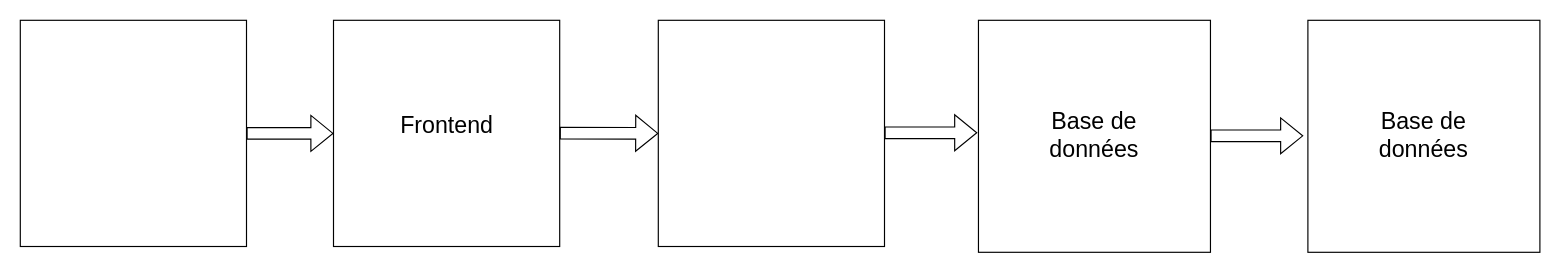
Some shapes in this 1560 by 273 pixel diagram are drawn without their labels. Each missing label, with the box of its shape:
Backend API: (657, 19, 884, 246)
Client/admin(web): (19, 19, 246, 246)
